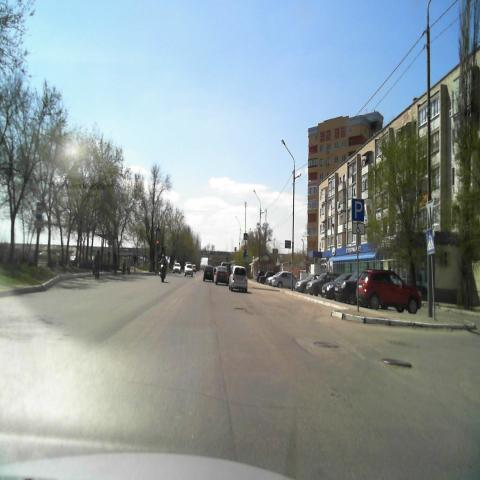6_4: (352, 198, 364, 221)
8_17: (352, 222, 364, 235)
